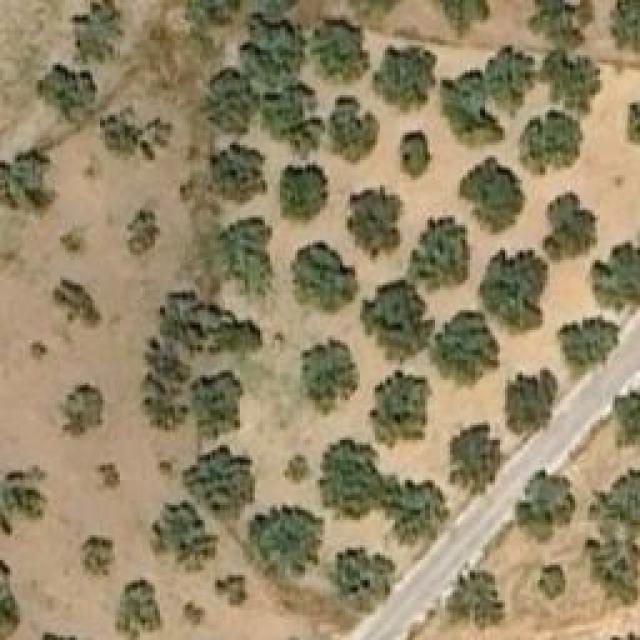Tree: (480, 247, 548, 335), (361, 280, 428, 362), (250, 500, 323, 575), (37, 63, 115, 133), (318, 440, 388, 518), (183, 445, 256, 513), (295, 337, 358, 415), (458, 158, 523, 233), (290, 243, 358, 313), (433, 313, 498, 386), (370, 373, 433, 448), (410, 215, 472, 291), (153, 503, 218, 573), (100, 105, 175, 163), (240, 13, 308, 76), (373, 45, 438, 110), (265, 78, 325, 148), (380, 478, 443, 543), (0, 143, 55, 216), (328, 548, 391, 611), (348, 188, 401, 261), (545, 188, 600, 258), (218, 218, 273, 288), (313, 15, 368, 83), (543, 42, 598, 110), (555, 317, 618, 375), (330, 95, 380, 168), (448, 73, 498, 146), (208, 143, 268, 203), (0, 465, 45, 545), (505, 365, 555, 435), (450, 425, 500, 495), (447, 570, 505, 630), (485, 42, 535, 110), (592, 240, 640, 310), (585, 538, 638, 601), (595, 468, 640, 541), (73, 0, 123, 65), (517, 470, 575, 525), (192, 370, 240, 435), (57, 378, 105, 441), (115, 577, 162, 640), (280, 165, 330, 220), (208, 70, 258, 125), (525, 112, 578, 160), (430, 0, 493, 40), (535, 0, 595, 42), (53, 278, 103, 328), (77, 535, 115, 583), (607, 0, 640, 55), (398, 130, 433, 180), (615, 387, 640, 455), (125, 210, 160, 258), (175, 0, 238, 25), (538, 565, 568, 600), (60, 228, 90, 261), (215, 575, 248, 605), (283, 453, 313, 483), (180, 600, 205, 628), (98, 463, 121, 493), (30, 340, 48, 360)
